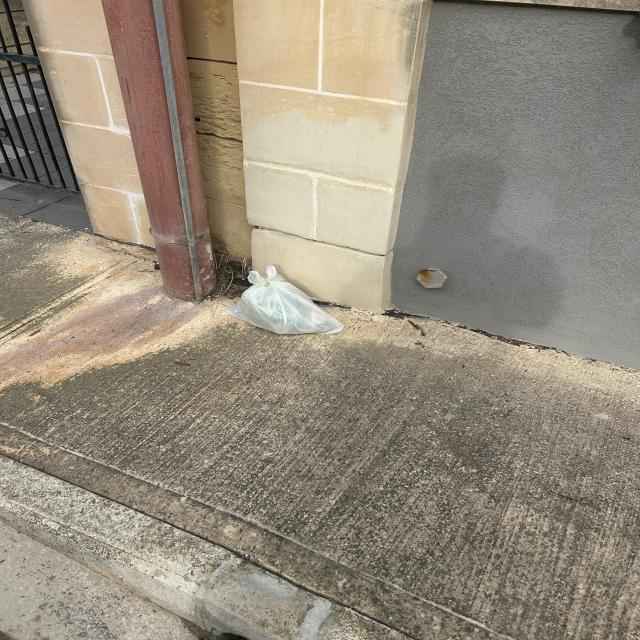white_bag: (221, 262, 348, 337)
